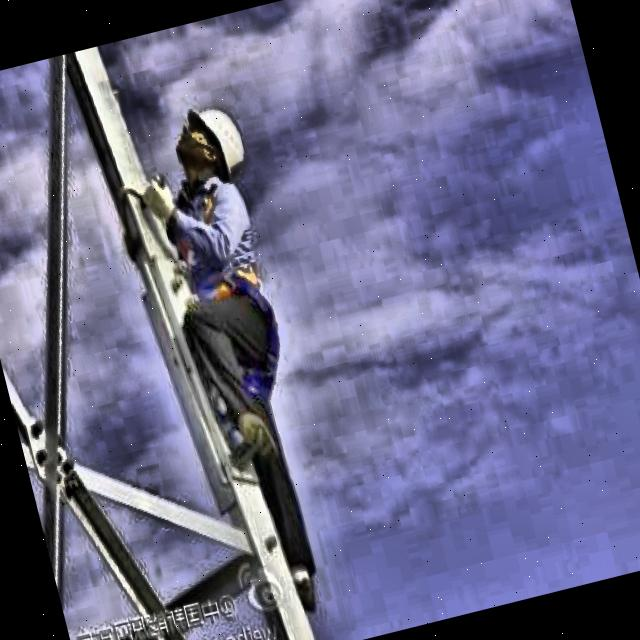helmet: (162, 102, 254, 194)
